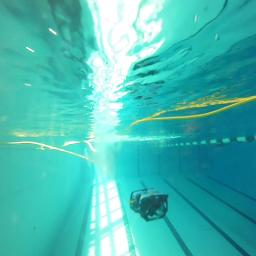Side: (127, 188, 170, 221)
back: (130, 187, 169, 222)
